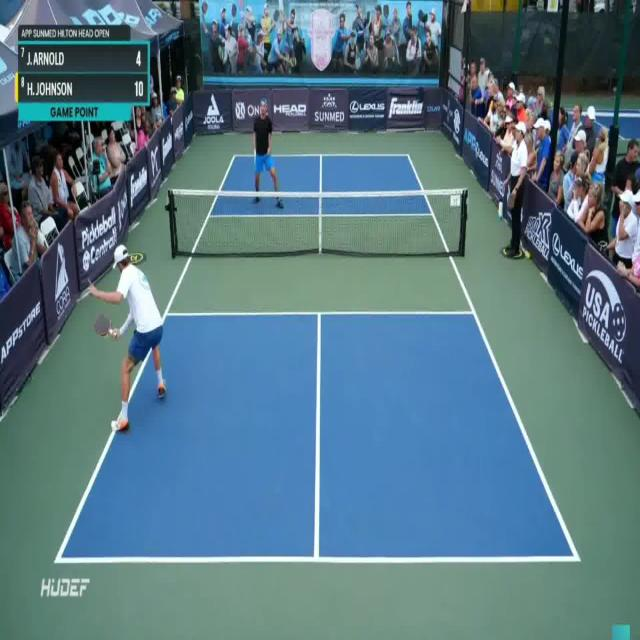Court: (56, 154, 577, 561)
